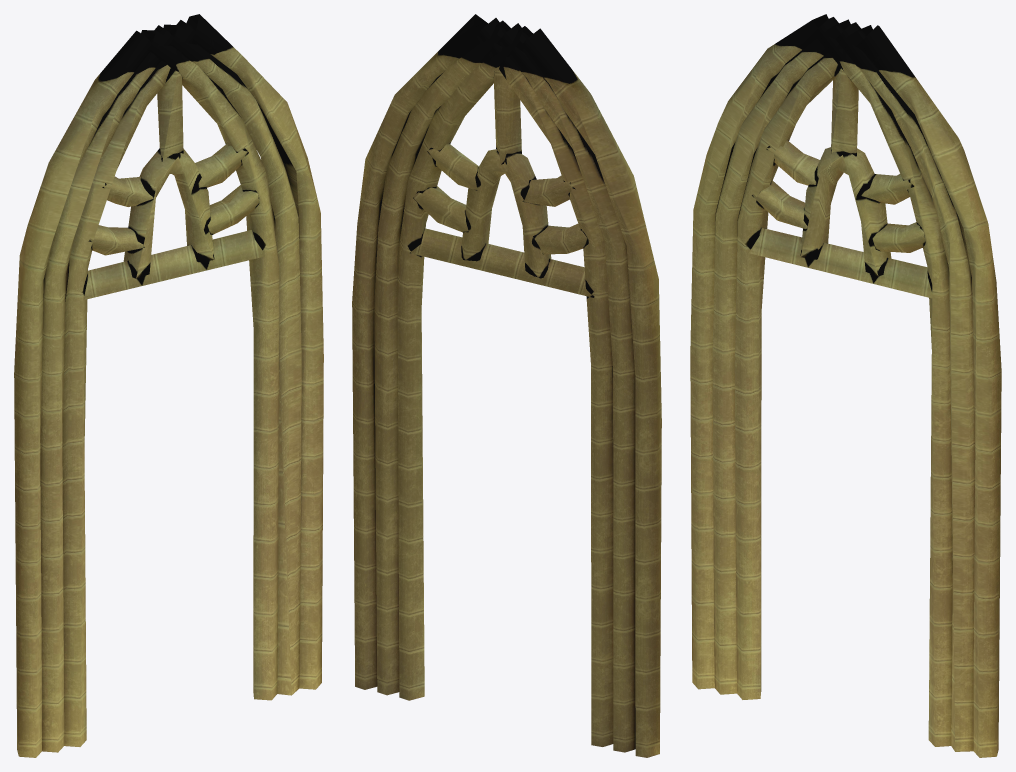
Rendered from Bamboo Door_LOD4.glb.
3 views of the same model, side by side, from view 1: azimuth 30°, elevation 25°; view 2: azimuth 150°, elevation 25°; view 3: azimuth 330°, elevation 25° (orthographic).
Visible parts, largest first — view 1: Bamboo Door_PROCESSED.001_LOD4; view 2: Bamboo Door_PROCESSED.001_LOD4; view 3: Bamboo Door_PROCESSED.001_LOD4.
Boxes of the visible parts, left/top/right/bottom form: Bamboo Door_PROCESSED.001_LOD4: left=14, top=14, right=323, bottom=757; Bamboo Door_PROCESSED.001_LOD4: left=352, top=14, right=661, bottom=757; Bamboo Door_PROCESSED.001_LOD4: left=690, top=14, right=1001, bottom=757.
Size of the model in its own units: 5.17 by 11.29 by 0.4348.
1 material, 1 textured.
